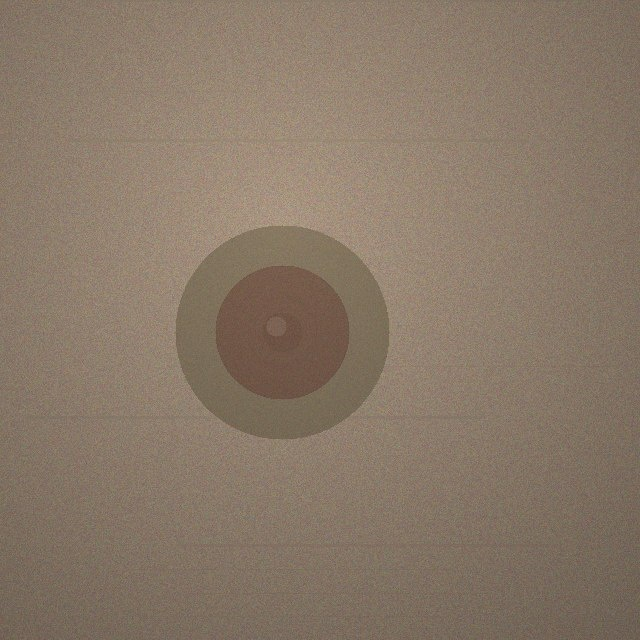good: (175, 225, 389, 439)
